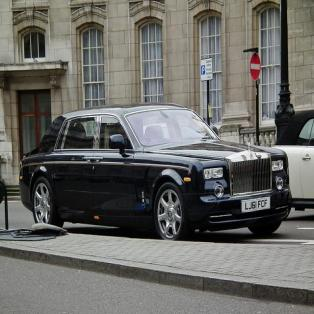Auto: (8, 83, 298, 260)
